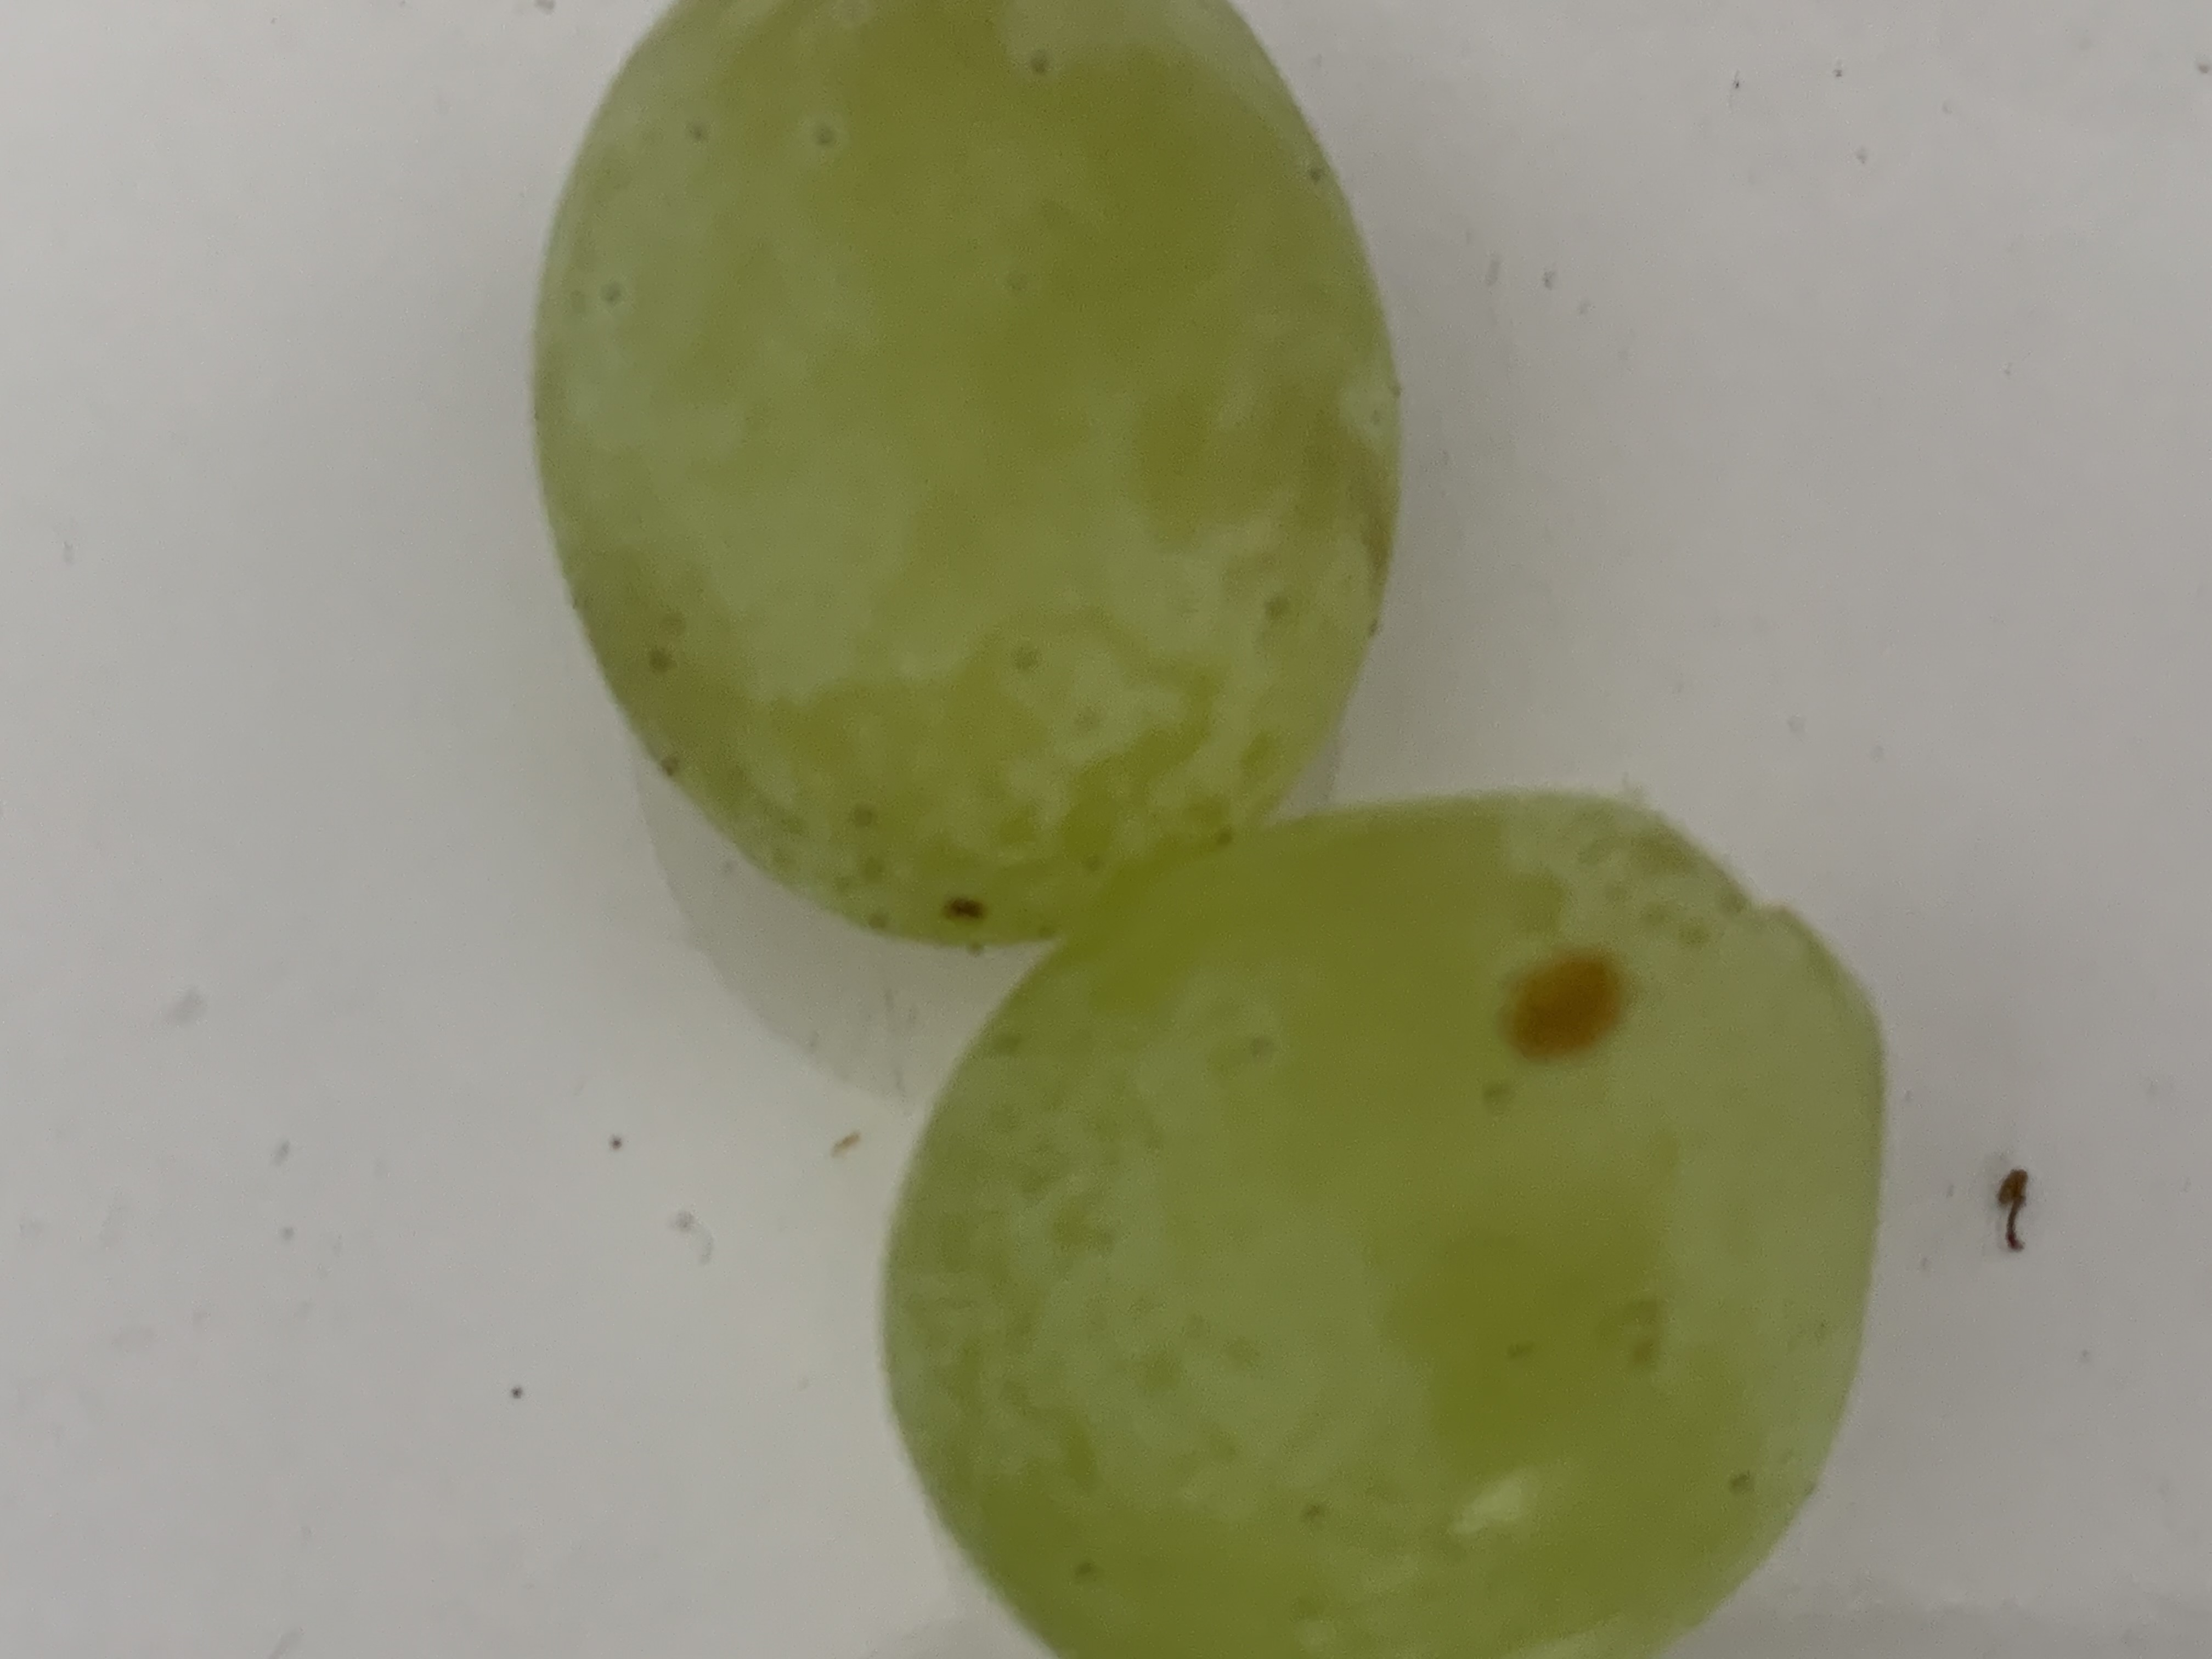grapes: (864, 782, 1923, 1659), (577, 16, 1413, 800)
